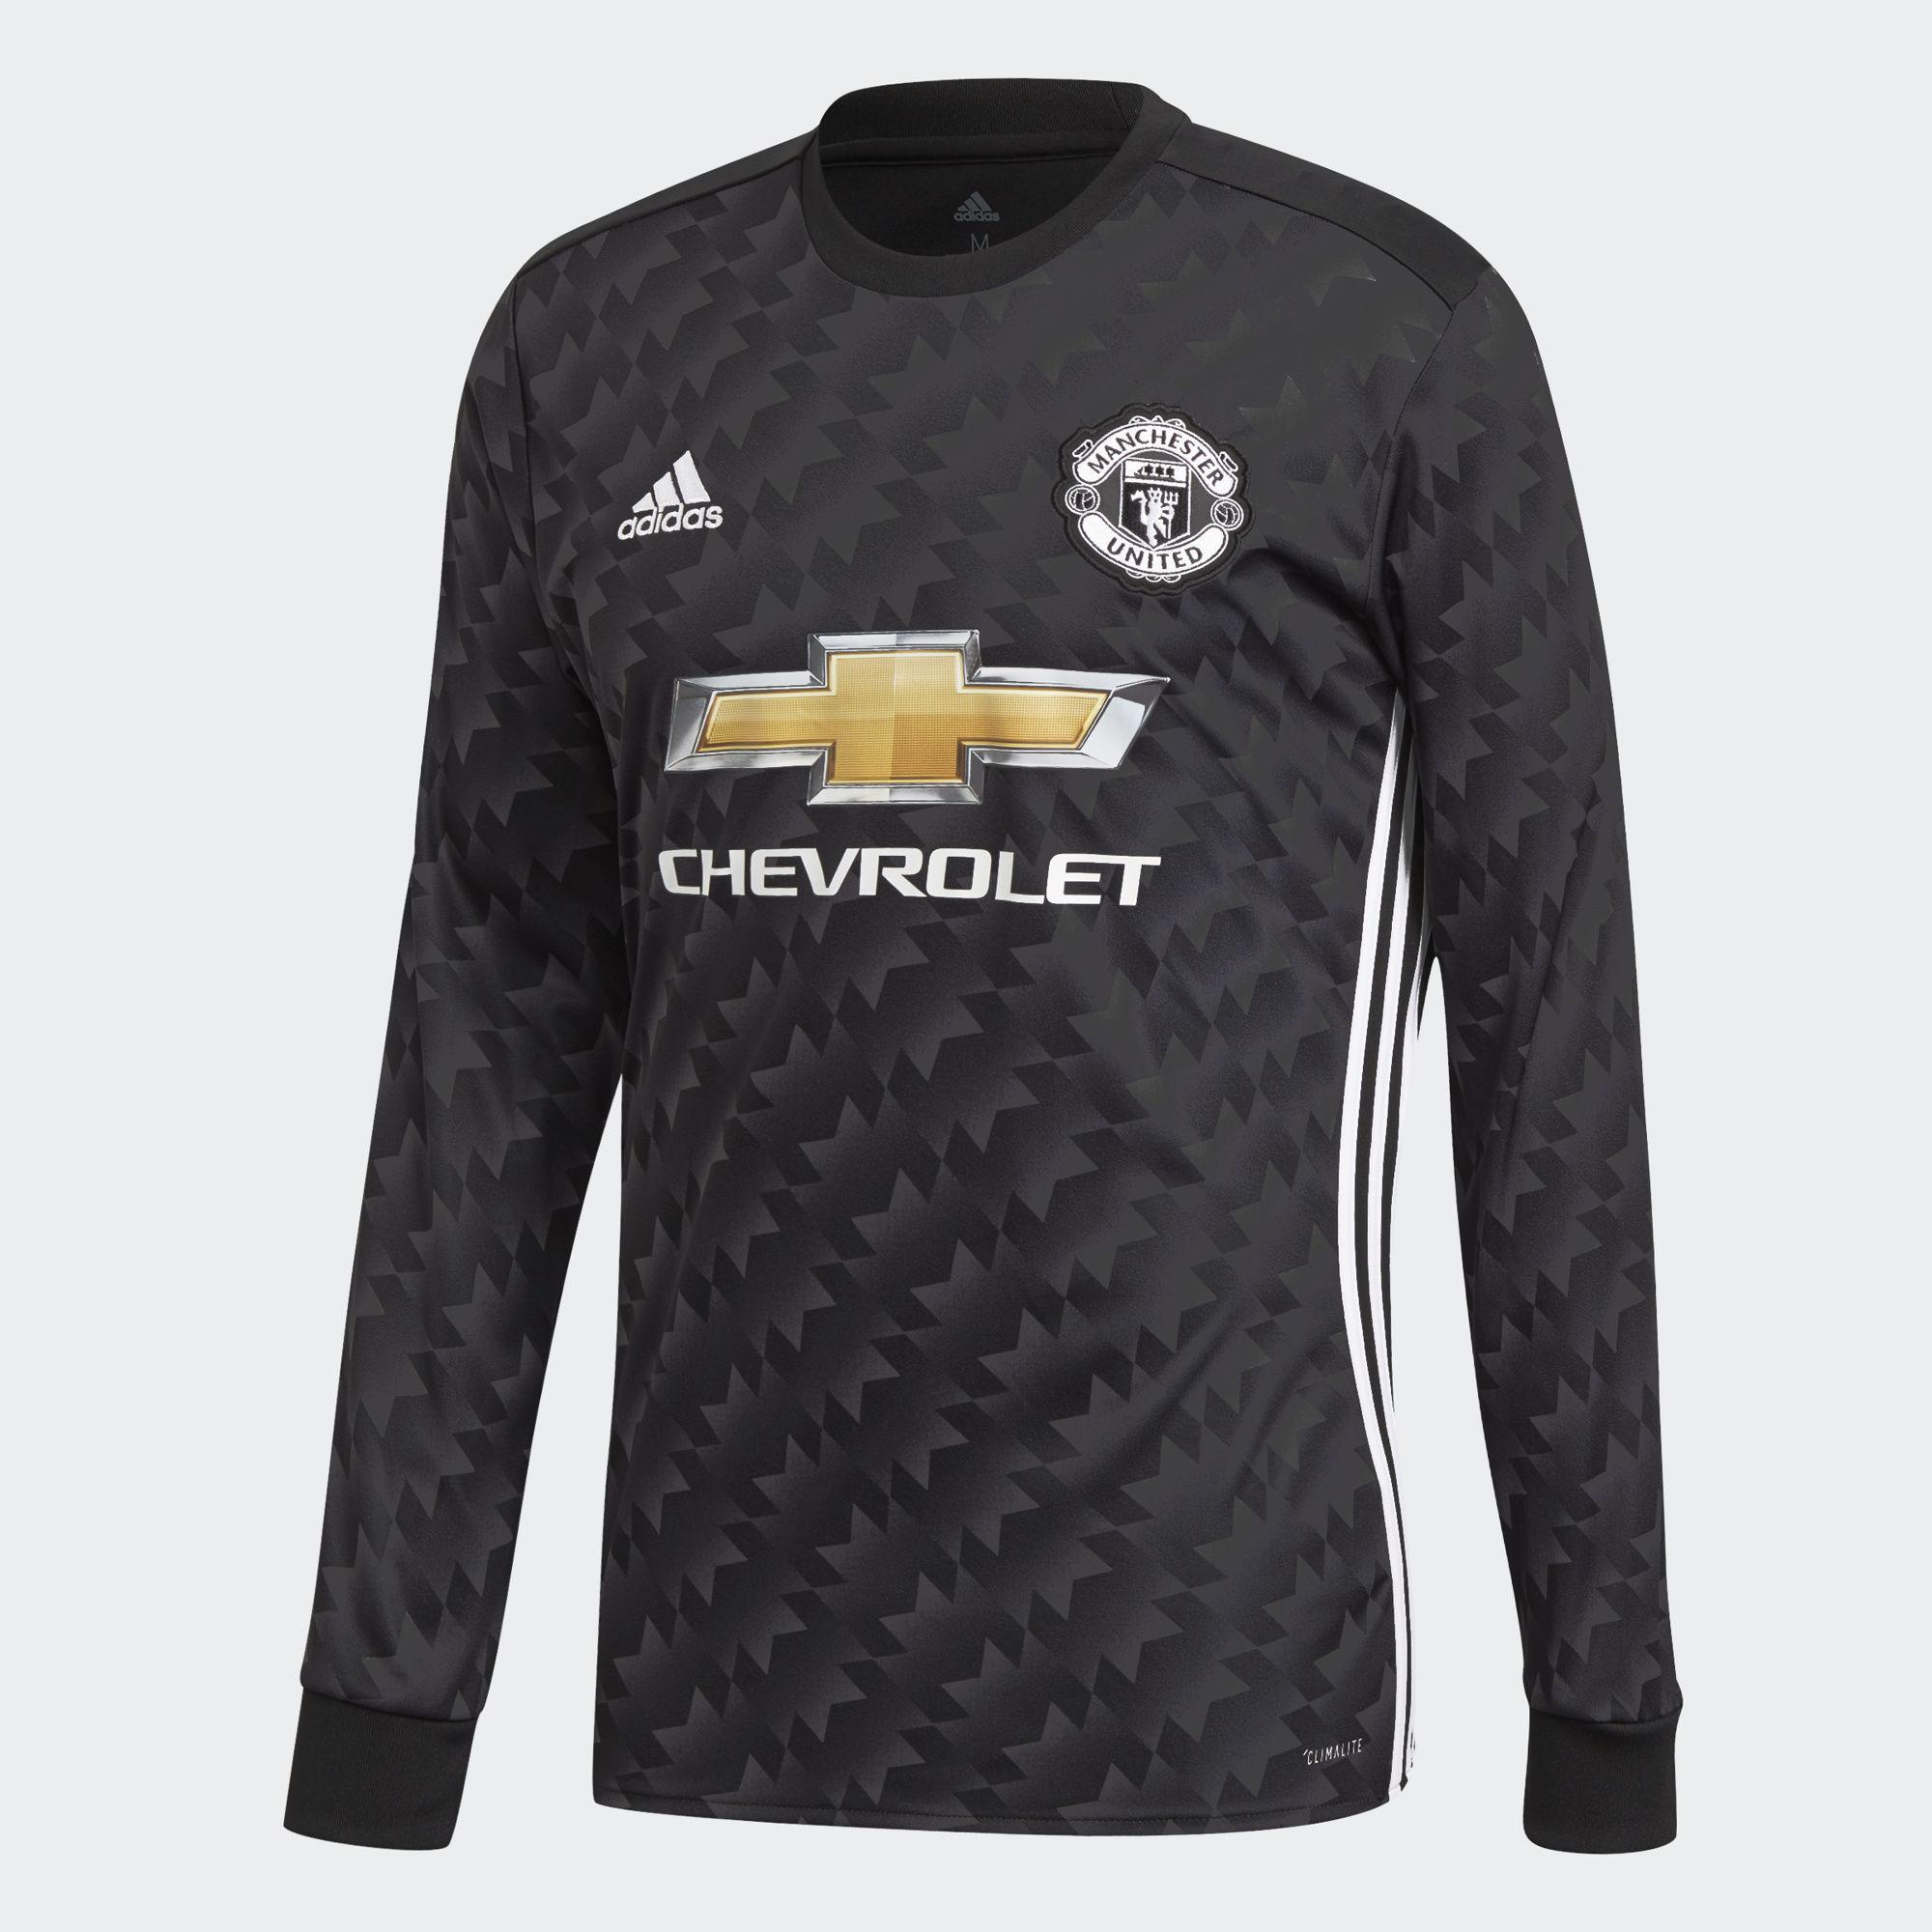teeshirt: (290, 58, 1760, 1893)
